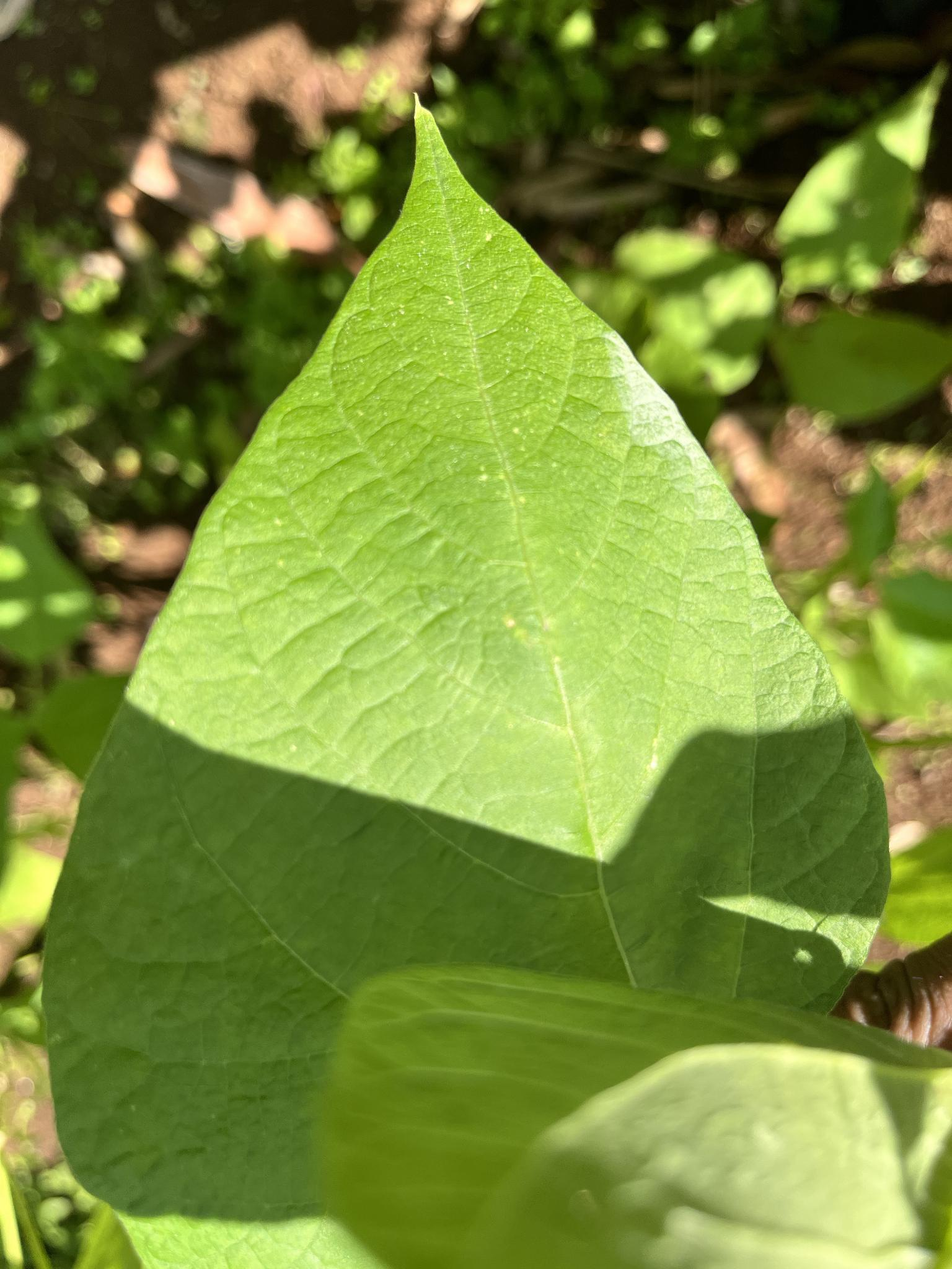embun tepung: (598, 315, 733, 501)
